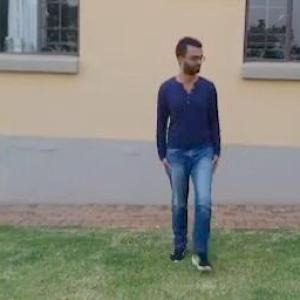follow: (157, 34, 225, 275)
